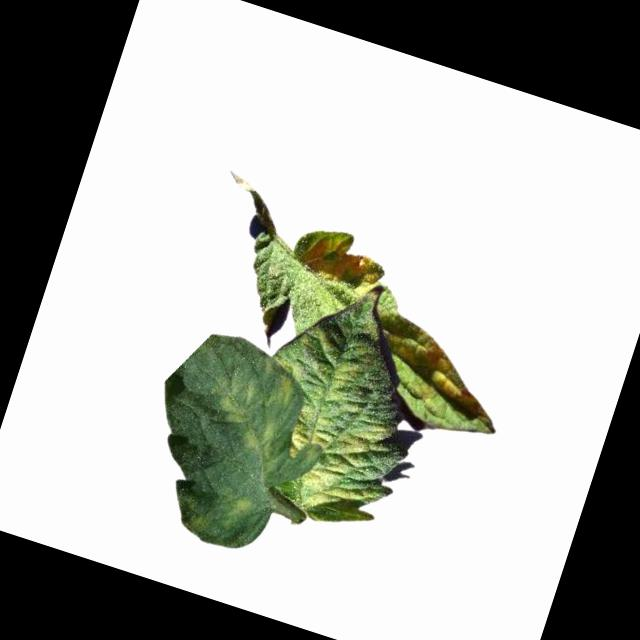Leaf_Mold: (366, 312, 525, 425), (271, 394, 400, 531), (199, 369, 298, 462), (297, 227, 393, 301), (183, 477, 257, 551), (266, 371, 302, 412)
